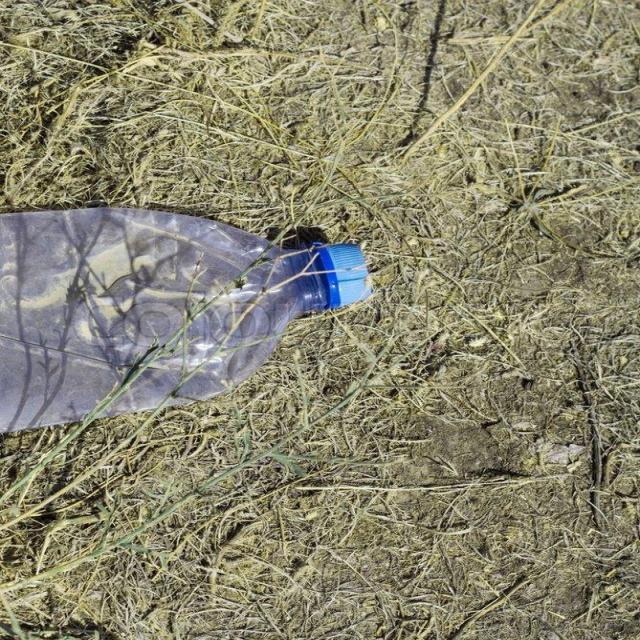bottle: (2, 185, 370, 472)
